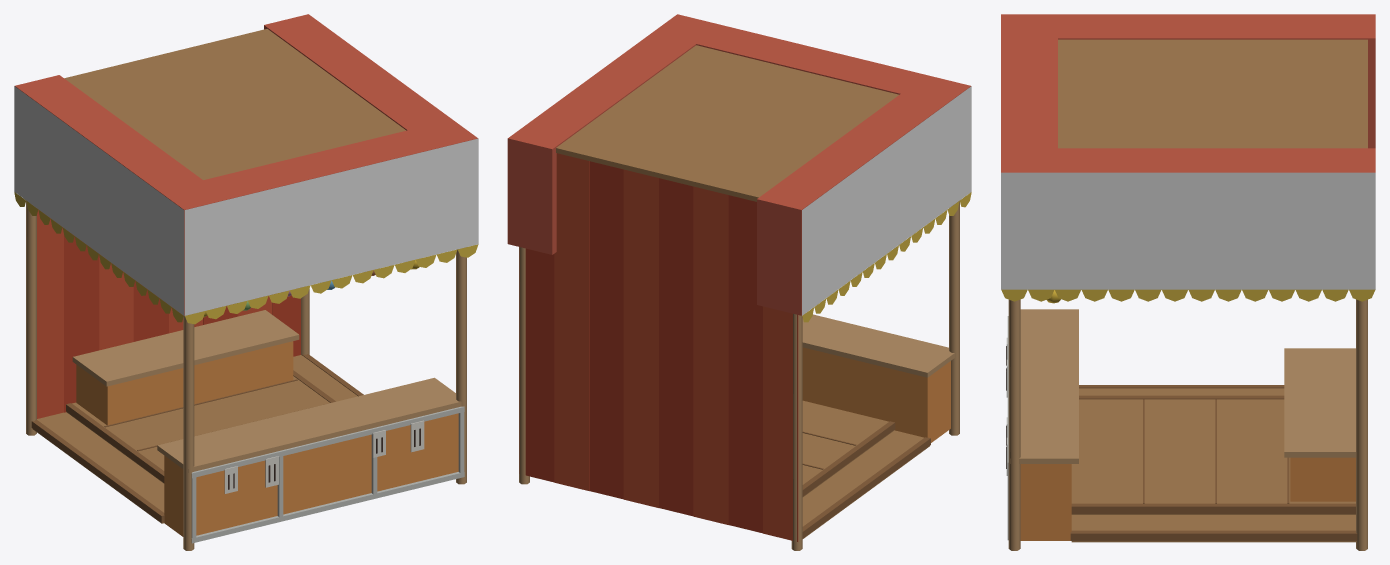
Rendered from stall_red.glb.
3 renders of one model, left to right at view 1: azimuth 30°, elevation 25°; view 2: azimuth 150°, elevation 25°; view 3: azimuth 270°, elevation 25°, orthographic. The views are drawn at different scales.
Parts seen in each view (by area): view 1: stall_red, stall_red_label, stall_red_board, stall_red_label2; view 2: stall_red, stall_red_board, stall_red_label2; view 3: stall_red, stall_red_label1, stall_red_board.
Part boxes in pixels (left/top/right/bottom): stall_red: left=14, top=29, right=478, bottom=550; stall_red_label: left=184, top=138, right=478, bottom=315; stall_red_board: left=15, top=14, right=477, bottom=315; stall_red_label2: left=14, top=86, right=183, bottom=315; stall_red: left=519, top=45, right=971, bottom=550; stall_red_board: left=507, top=14, right=970, bottom=315; stall_red_label2: left=802, top=86, right=971, bottom=315; stall_red: left=1001, top=39, right=1375, bottom=550; stall_red_label1: left=1001, top=172, right=1375, bottom=289; stall_red_board: left=1001, top=14, right=1375, bottom=172.
Bounding box in the file's own units: 2.51 × 2.81 × 2.51.
